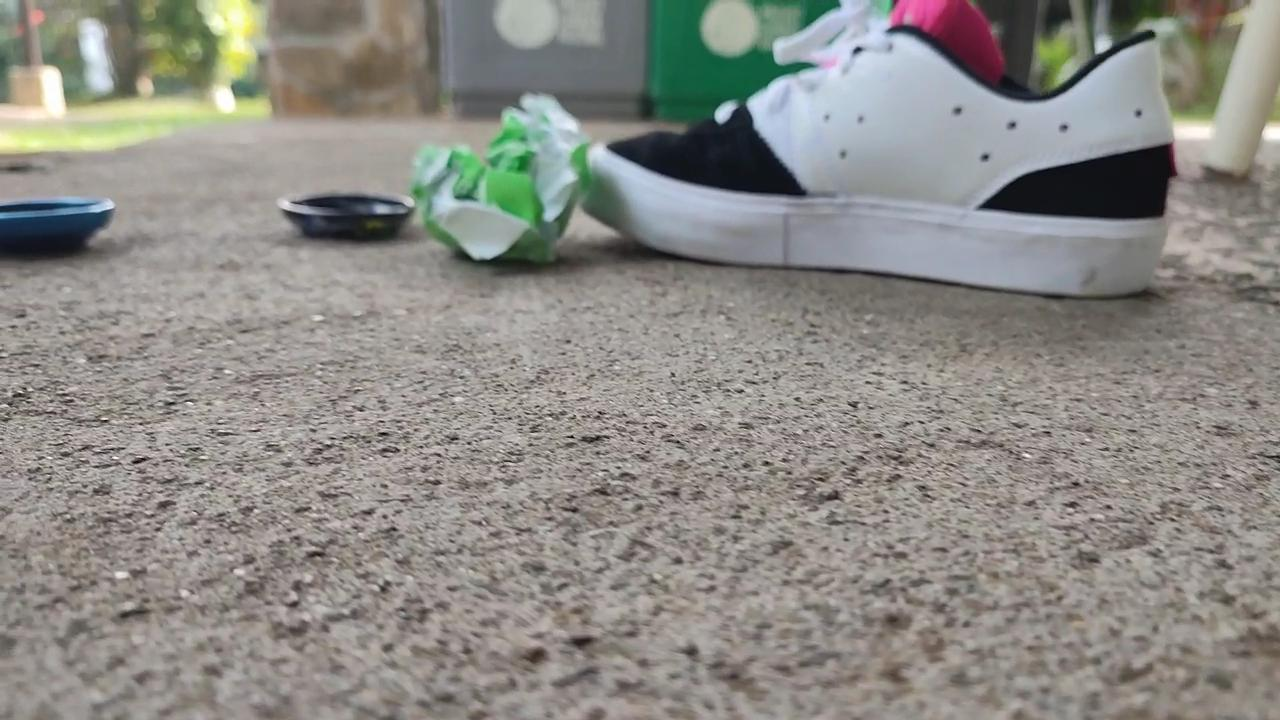Paper: (396, 75, 600, 271)
